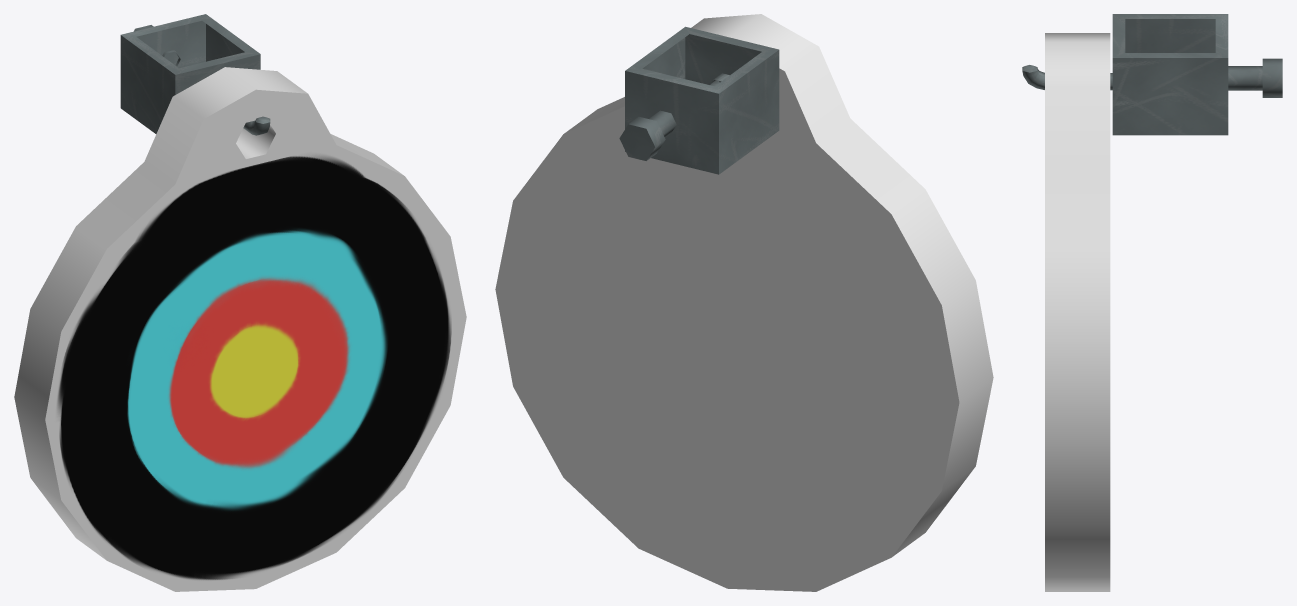
The model's file is dianaSolitaGancho.obj.
3 views of the same model, side by side, from view 1: azimuth 30°, elevation 25°; view 2: azimuth 150°, elevation 25°; view 3: azimuth 270°, elevation 25° (orthographic). The views are drawn at different scales.
Visible parts, largest first — view 1: polySurface55; view 2: polySurface55; view 3: polySurface55.
Boxes of the visible parts, x1,y1,x2,y2 form: polySurface55: (14,14,466,591); polySurface55: (495,14,993,591); polySurface55: (1022,14,1282,591).
Size of the model in its own units: 16.13 by 18.37 by 8.19.
